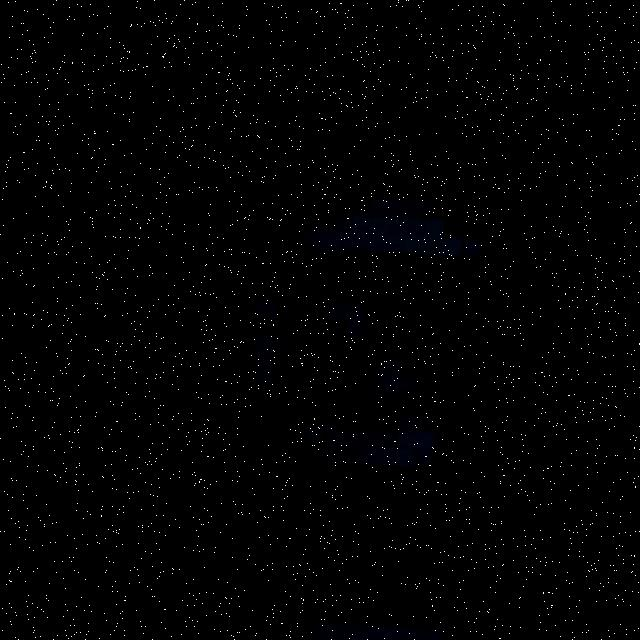Ograniczenie predkosci do 120: (190, 138, 568, 533)
